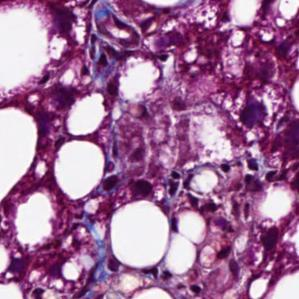inflammation: (120, 172, 175, 204), (48, 77, 89, 114)
